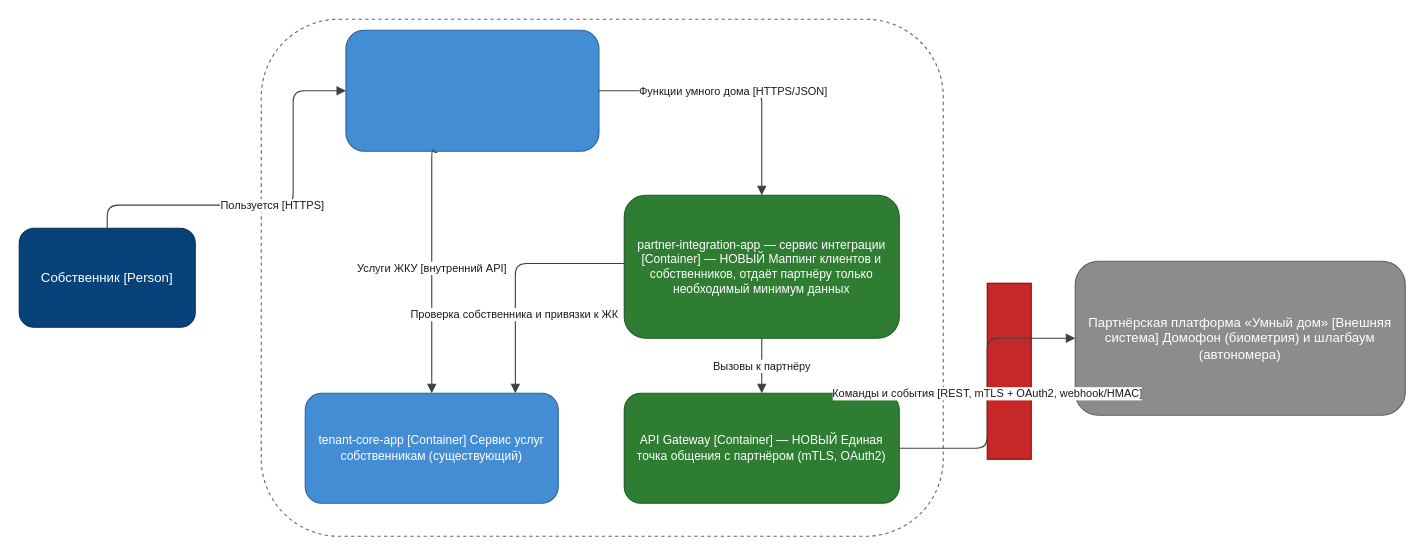
Some shapes in this 1425 by 556 pixel diagram are drawn without their labels. Each missing label, with the box of its shape:
Firewall: (986, 282, 1031, 459)
PropDevelopment — домен ЖКУ: (260, 18, 943, 536)
Мобильное приложение собственников [Container] ЖКУ + умный дом: (345, 29, 599, 151)
